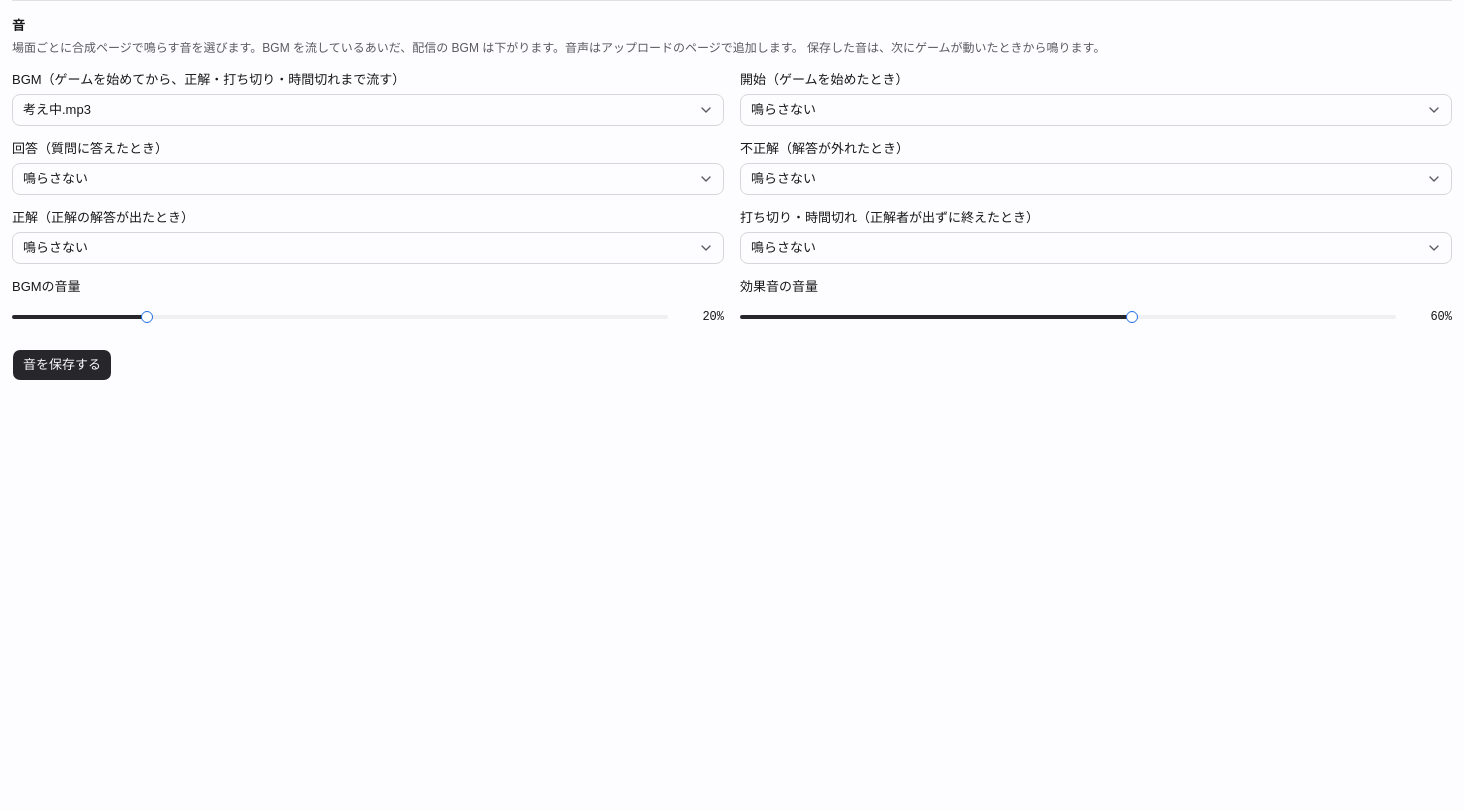
Test: ChatDeductionSoundCard › 正解の音を選んで保存すると、選んだ音と音量を Worker へ送り、保存したことを知らせる
Select "ピンポン.mp3" in the dropdown labelled "正解（正解の解答が出たとき）". click: (368, 248)
box: [12,232,724,264]
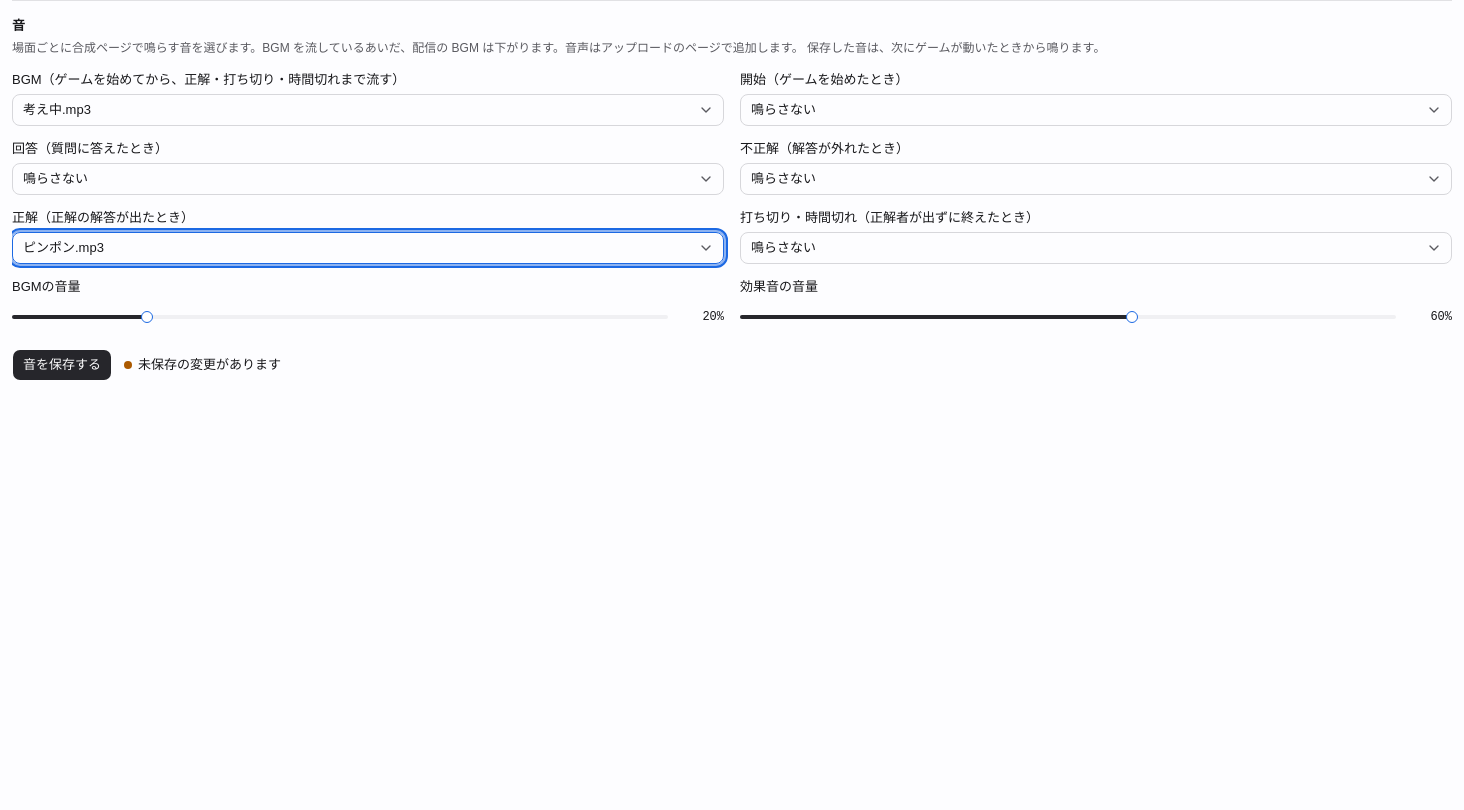
Check: the text "未保存の変更があります" is shown, box [124,355,281,375]
Click the button "音を保存する". click: click(62, 365)
box: [12,349,112,381]
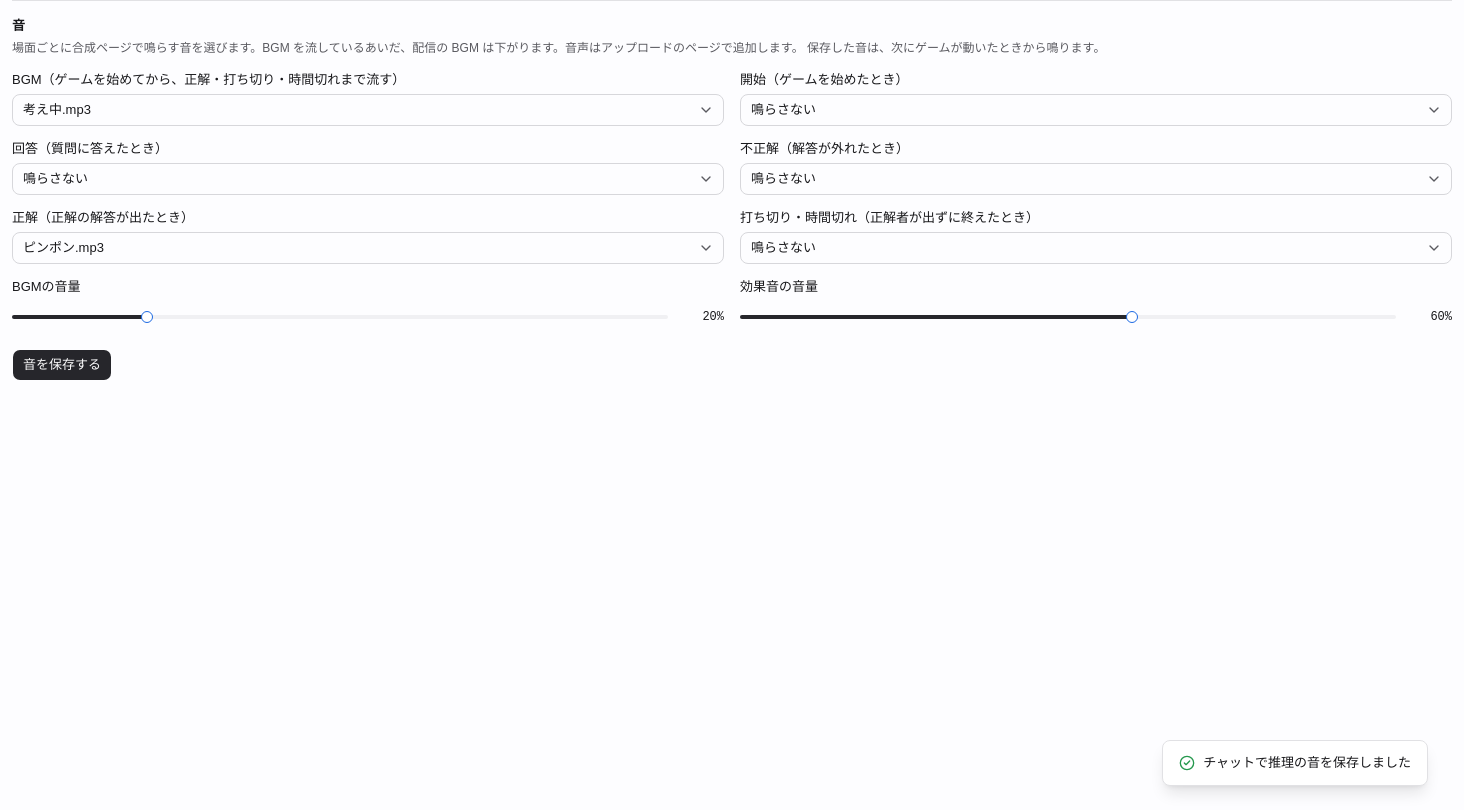
Check: the text "チャットで推理の音を保存しました" is shown, box [1162,740,1428,786]
Check: the text "未保存の変更があります" is gone
